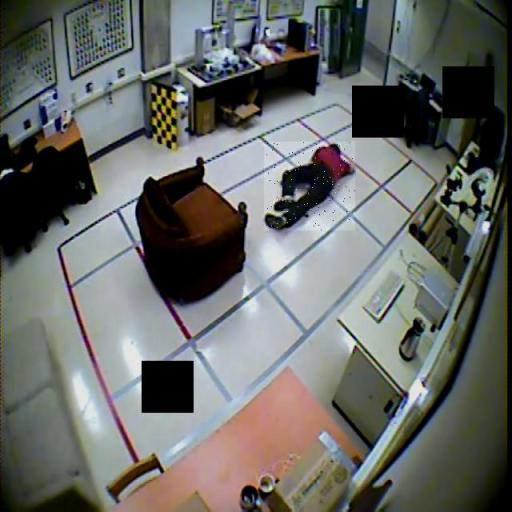Fall: (264, 142, 355, 231)
